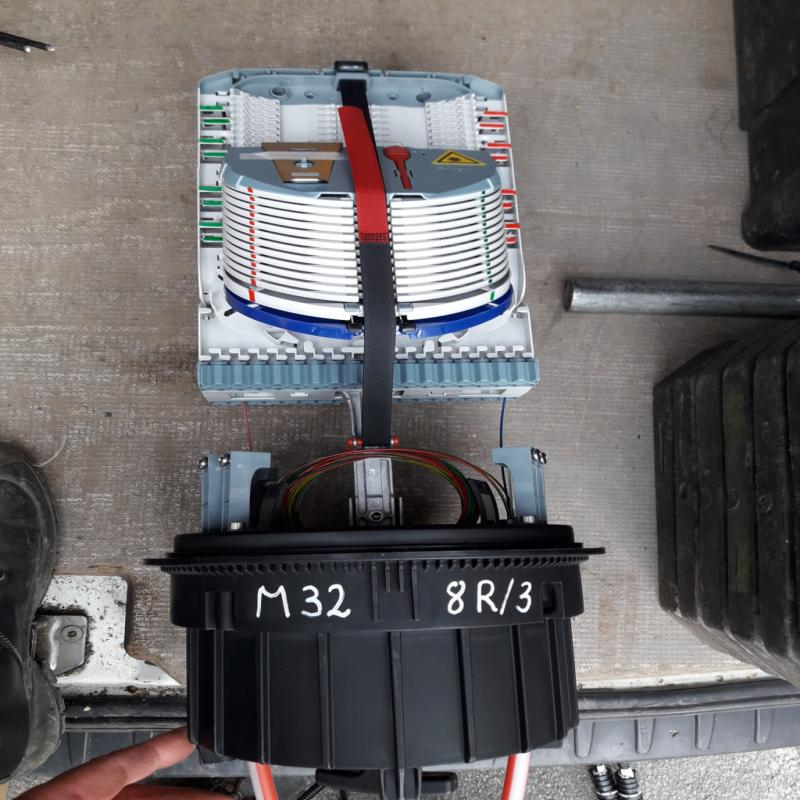NT-Muffen: (170, 63, 590, 778)
